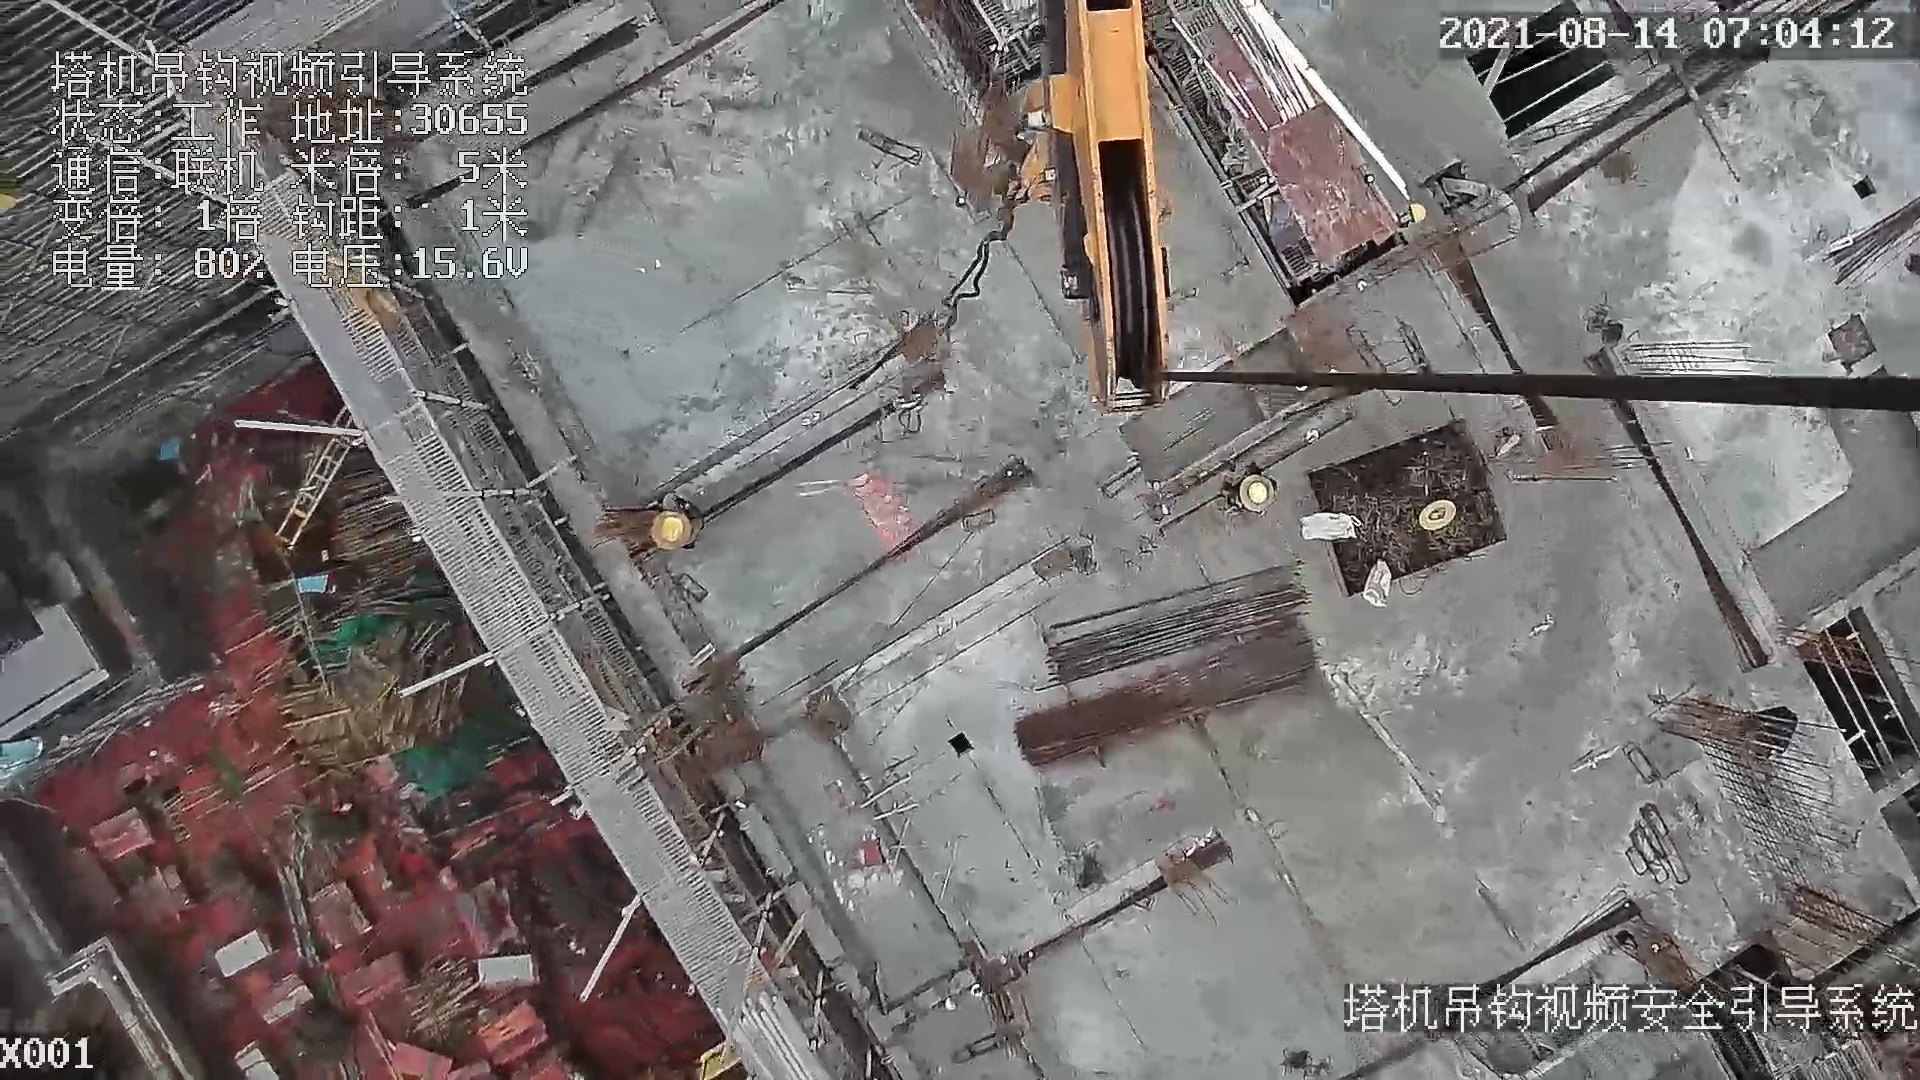hook: (1024, 1, 1177, 419)
person: (1221, 466, 1284, 522)
